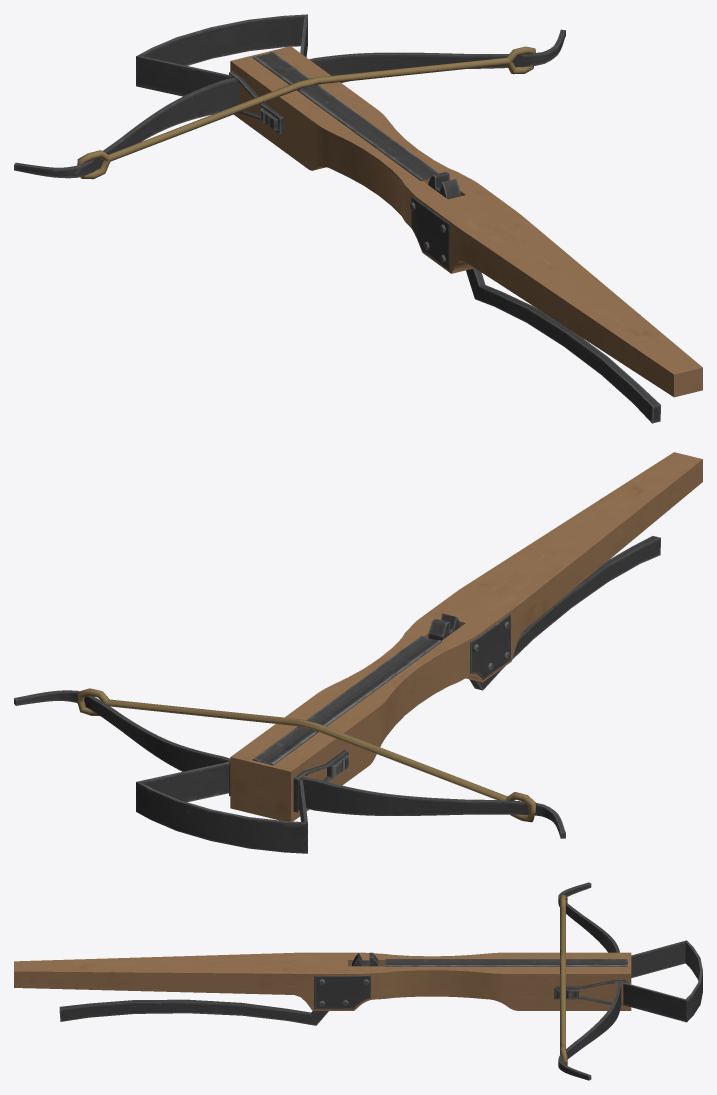
File: light_xbow.glb
3 views of the same model, one above another, from view 1: azimuth 30°, elevation 25°; view 2: azimuth 150°, elevation 25°; view 3: azimuth 270°, elevation 25° (orthographic). The views are drawn at different scales.
Visible parts, largest first — view 1: Object_338; view 2: Object_338; view 3: Object_338.
Boxes of the visible parts, box(x1,y1,x2,y2) form: Object_338: box(14, 14, 702, 423); Object_338: box(14, 452, 702, 853); Object_338: box(14, 882, 702, 1080).
Size of the model in its own units: 0.4385 by 0.0729 by 0.6572.
Materials: 1 (1 with a texture image).
